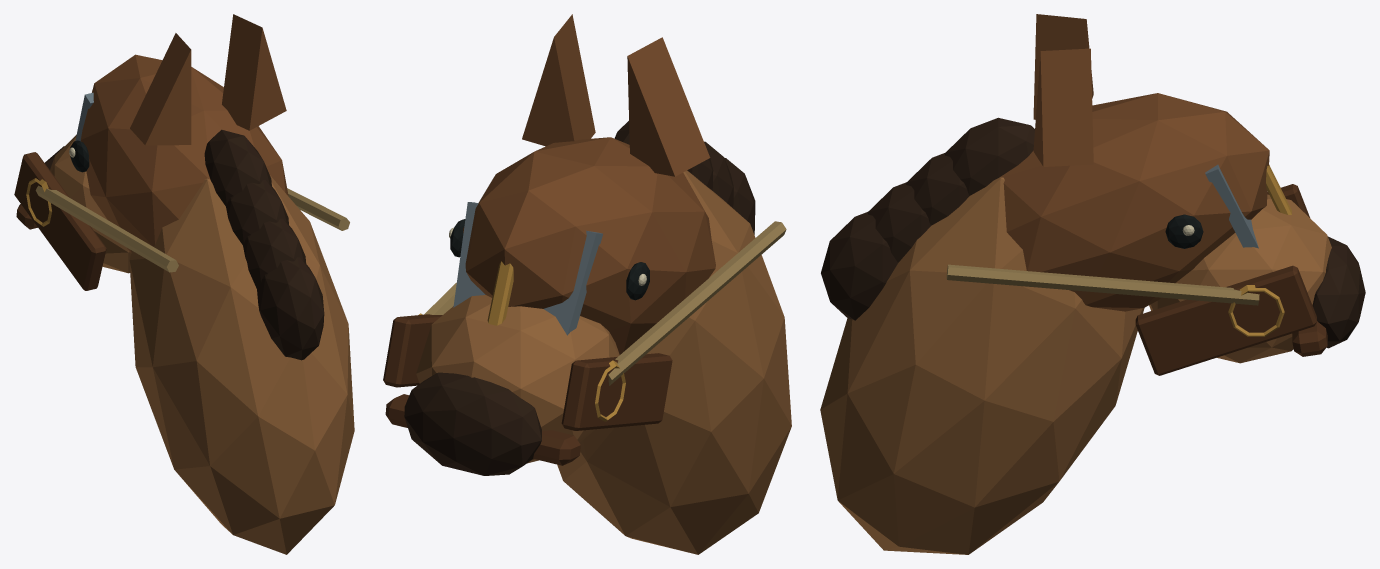
File: HorseHead.glb
The picture shows the model from 3 angles, left to right: view 1: azimuth 30°, elevation 25°; view 2: azimuth 150°, elevation 25°; view 3: azimuth 270°, elevation 25°; orthographic projection. The views are drawn at different scales.
Visible parts, largest first — view 1: Sculpture; view 2: Sculpture; view 3: Sculpture.
Part boxes in pixels (left/top/right/bottom): Sculpture: left=14, top=14, right=354, bottom=554; Sculpture: left=383, top=14, right=791, bottom=554; Sculpture: left=820, top=14, right=1365, bottom=554.
Size of the model in its own units: 0.5138 by 1.25 by 1.17.
